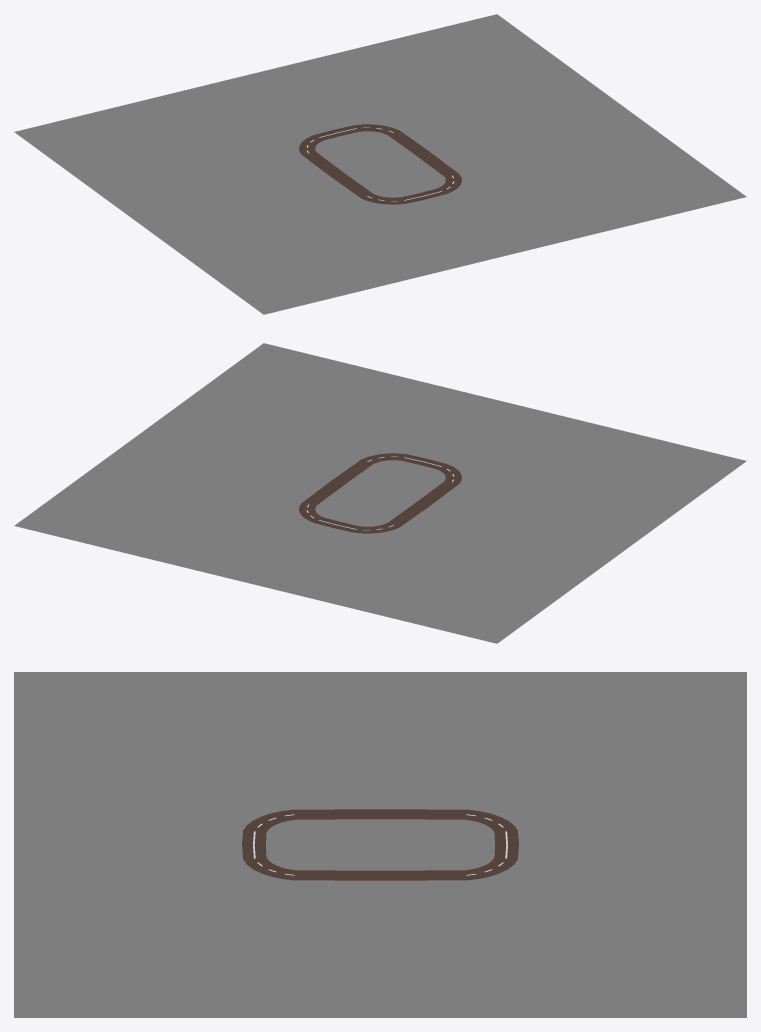
File: TRACK_02.fbx
3 views of the same model, one above another, from view 1: azimuth 30°, elevation 25°; view 2: azimuth 150°, elevation 25°; view 3: azimuth 270°, elevation 25° (orthographic). The views are drawn at different scales.
Visible parts, largest first — view 1: Track2; view 2: Track2; view 3: Track2.
Part boxes in pixels (<box>): Track2: <box>14,14,746,314</box>; Track2: <box>14,343,746,643</box>; Track2: <box>14,672,746,1017</box>.
Size of the model in its own units: 78878 by 0.0115 by 70637.
